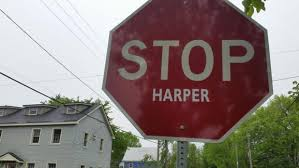stop_sign: (99, 1, 275, 142)
